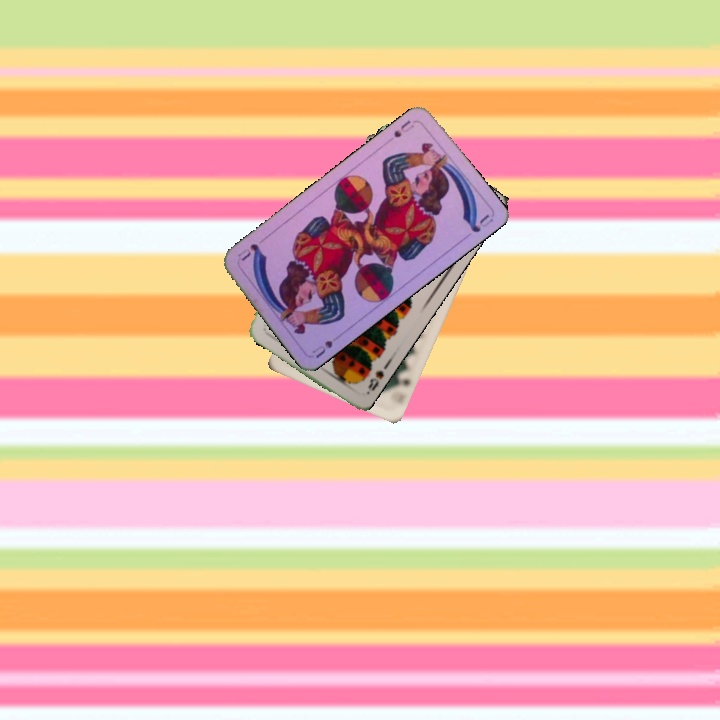G10: (390, 367, 412, 391)
S8: (364, 366, 386, 394)
SU: (308, 329, 344, 361), (390, 116, 416, 140)
